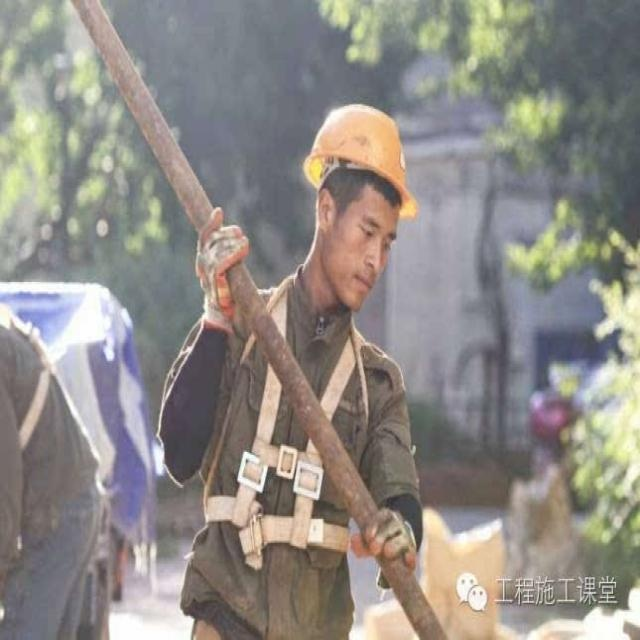Arnes_seguridad: (197, 271, 372, 570)
